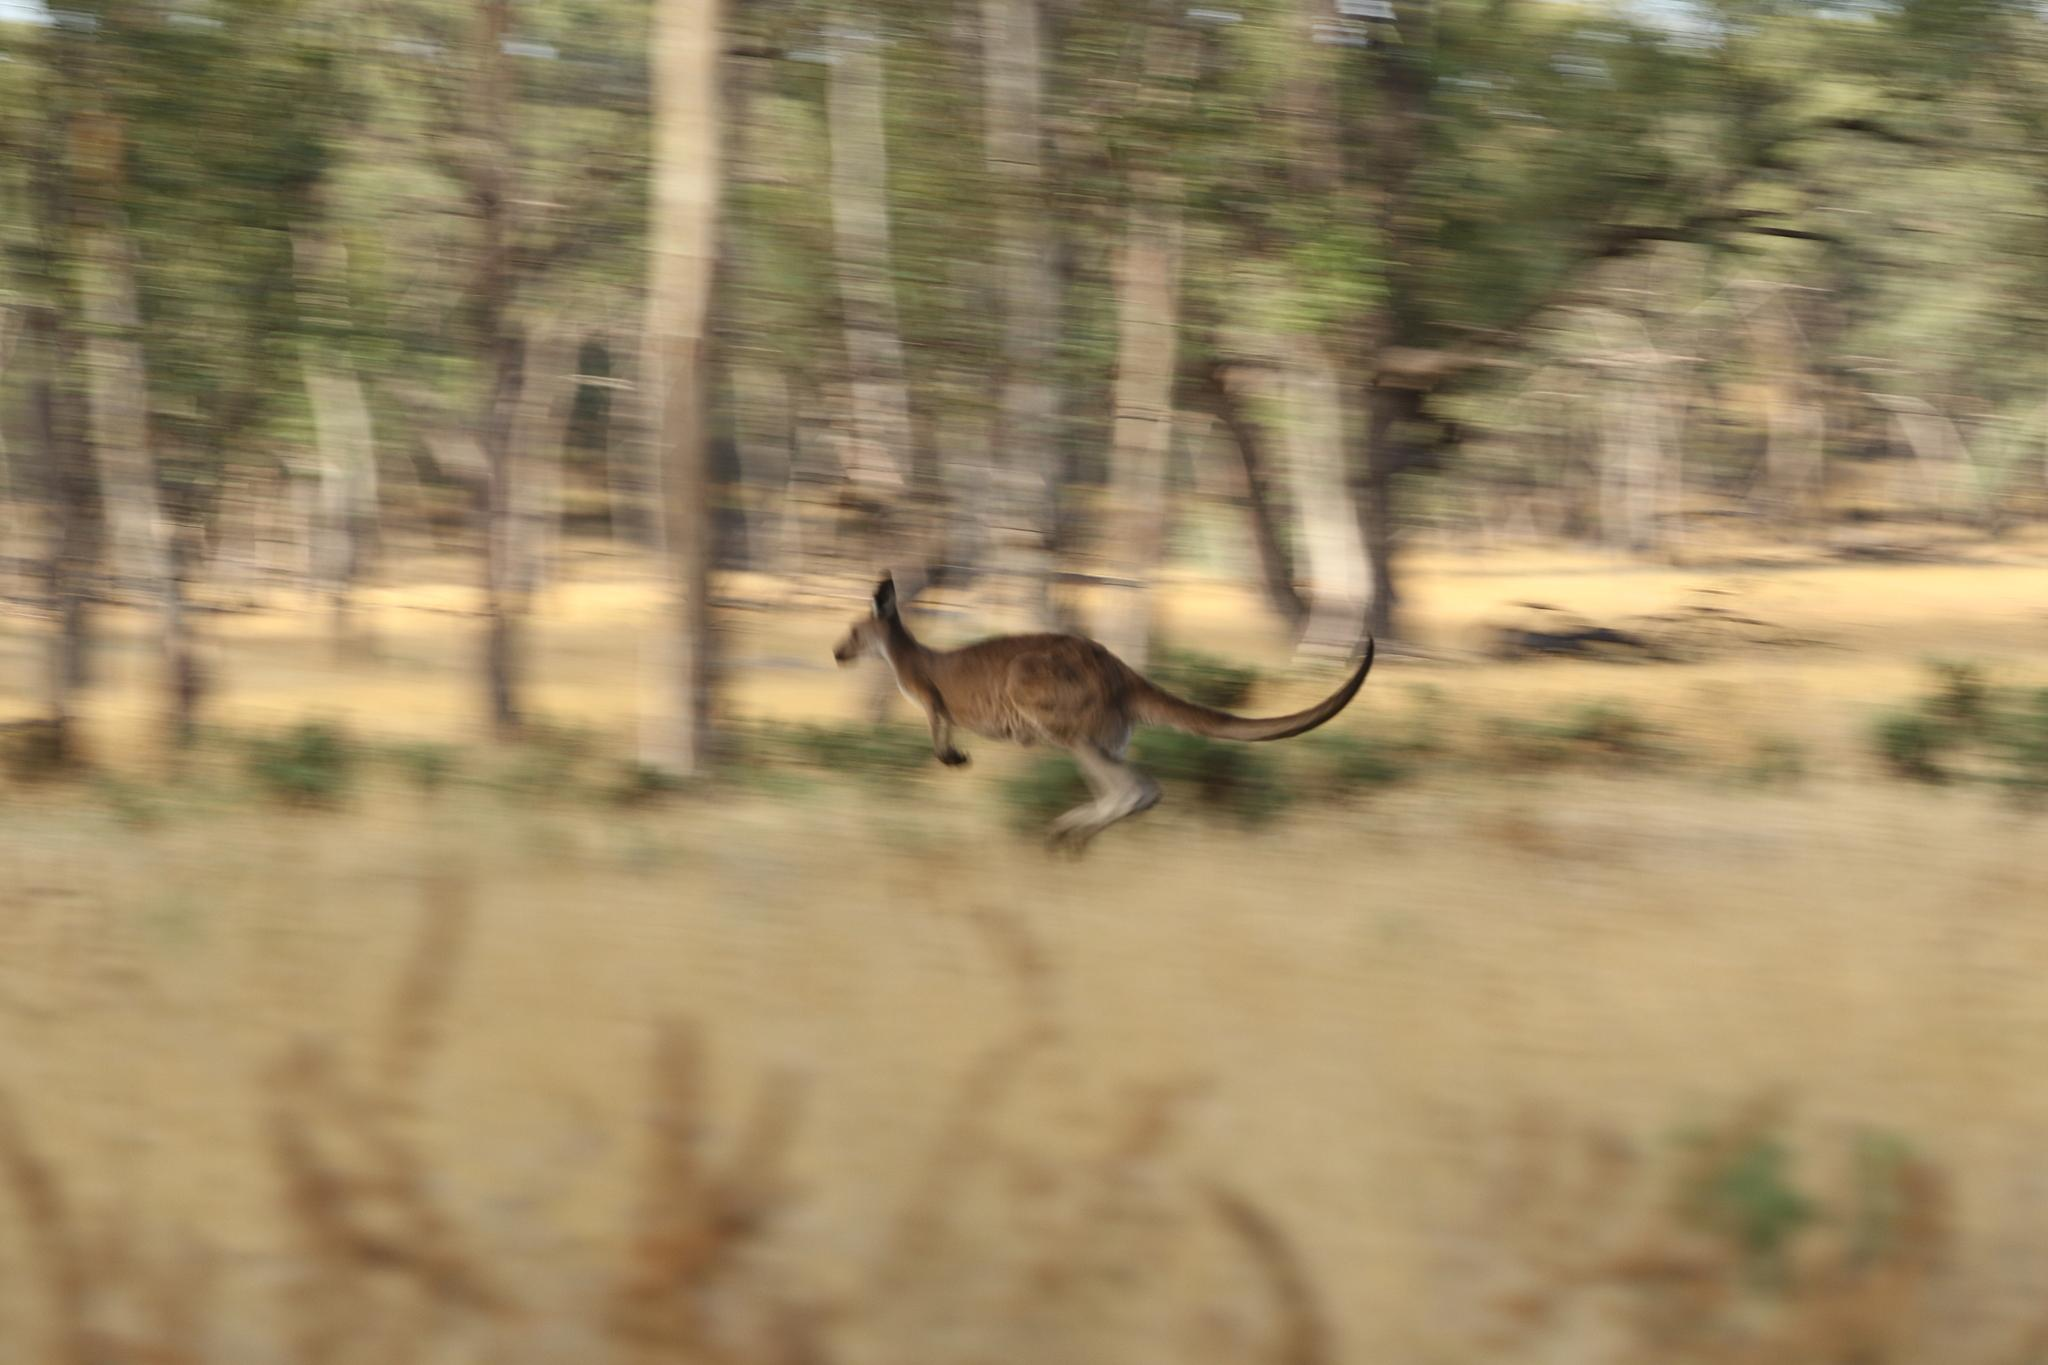Western grey kangaroo: (833, 564, 1387, 859)
